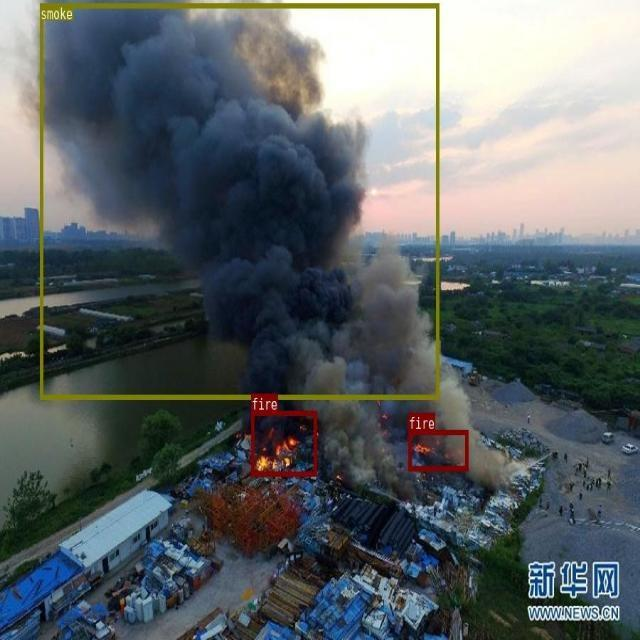fire: (251, 411, 316, 476), (408, 429, 467, 470)
smoke: (40, 2, 439, 399)
